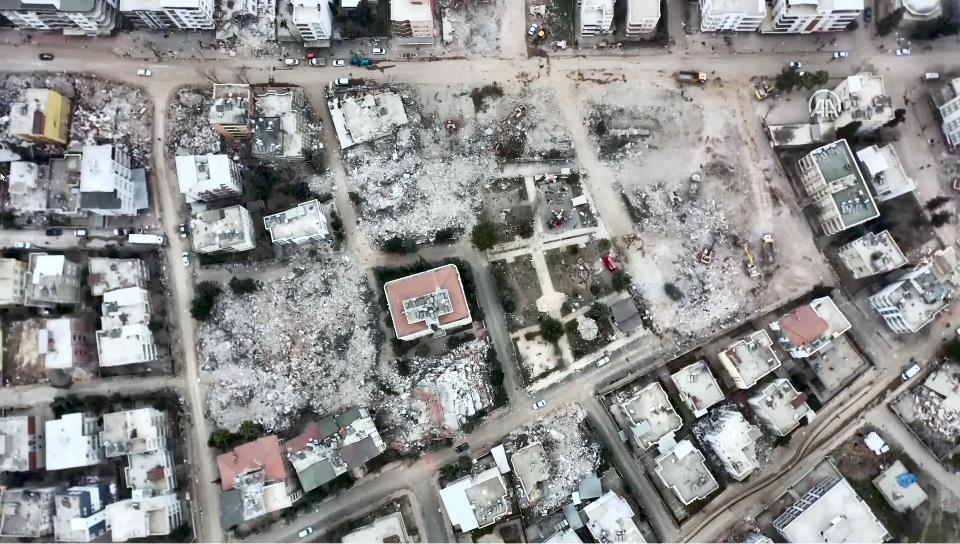kapali: (345, 243, 438, 464), (636, 270, 793, 371)
